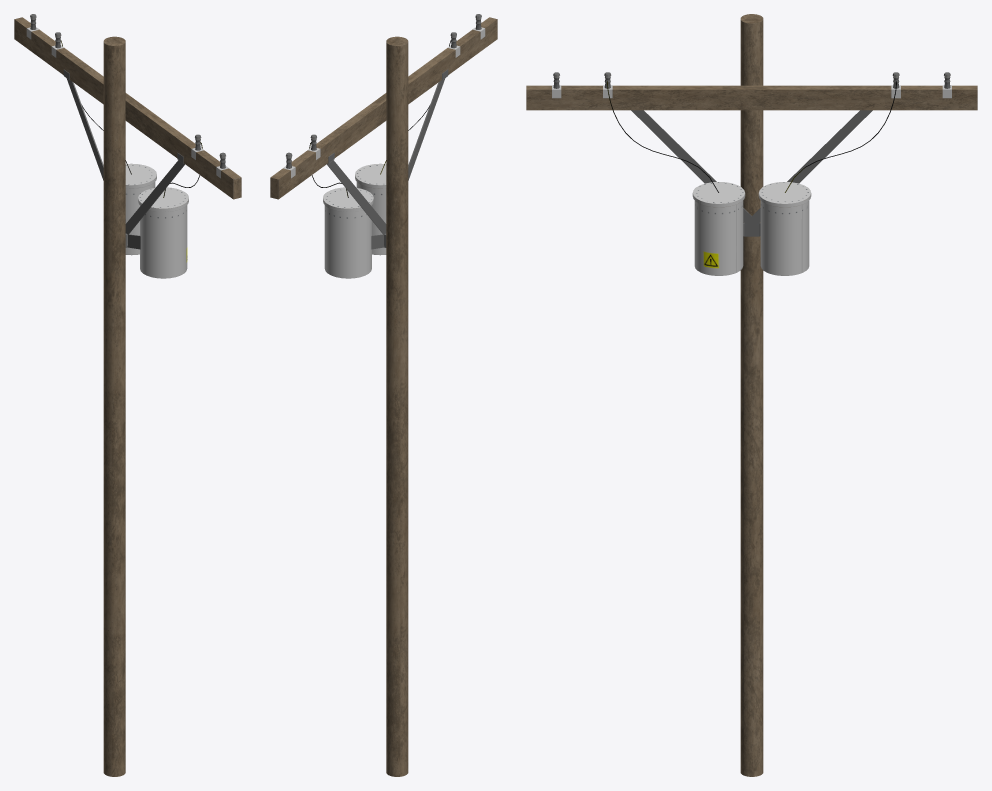
The model's file is uploads_files_3477197_SinglePole.fbx.
3 renders of one model, left to right at view 1: azimuth 30°, elevation 25°; view 2: azimuth 150°, elevation 25°; view 3: azimuth 270°, elevation 25°, orthographic. The views are drawn at different scales.
Visible parts, largest first — view 1: Pole; view 2: Pole; view 3: Pole.
Boxes of the visible parts, x1,y1,x2,y2 form: Pole: [14, 14, 241, 776]; Pole: [270, 14, 497, 776]; Pole: [526, 14, 977, 776].
Bounding box in the file's own units: 270 × 2924 × 1588.
